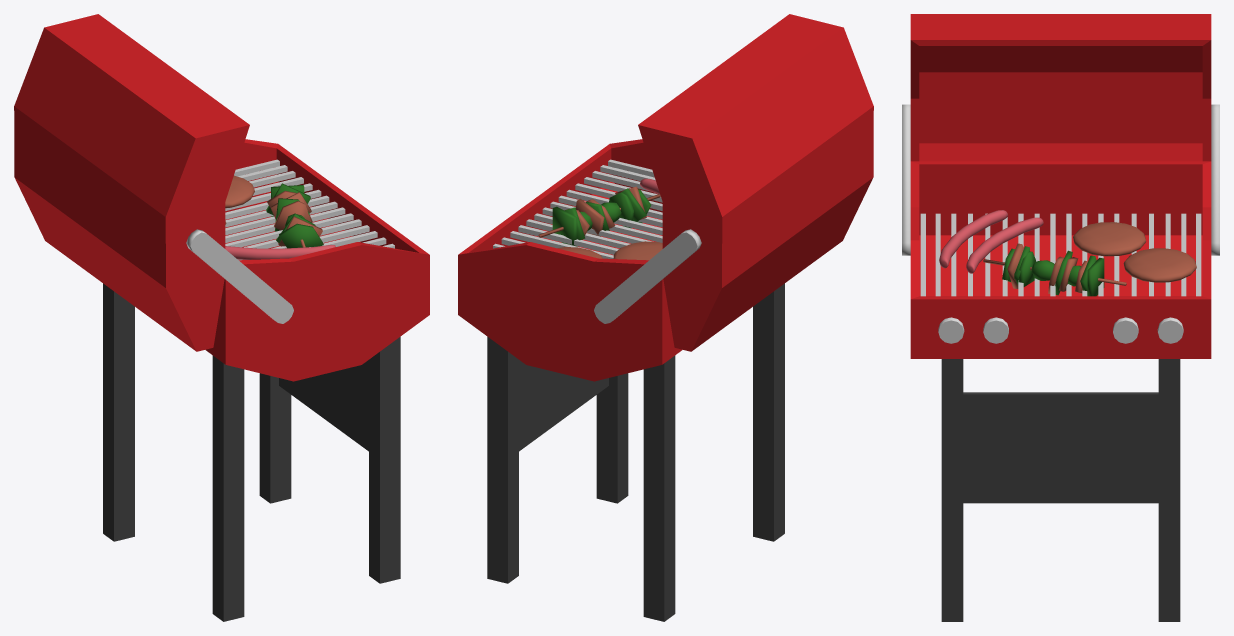
The model's file is Grill.fbx.
3 renders of one model, left to right at view 1: azimuth 30°, elevation 25°; view 2: azimuth 150°, elevation 25°; view 3: azimuth 270°, elevation 25°, orthographic.
Visible parts, largest first — view 1: Cube; view 2: Cube; view 3: Cube.
Part boxes in pixels (<box>): Cube: <box>14,14,429,621</box>; Cube: <box>458,14,873,621</box>; Cube: <box>902,14,1219,621</box>.
Bounding box in the file's own units: 58.85 × 105 × 60.4.
